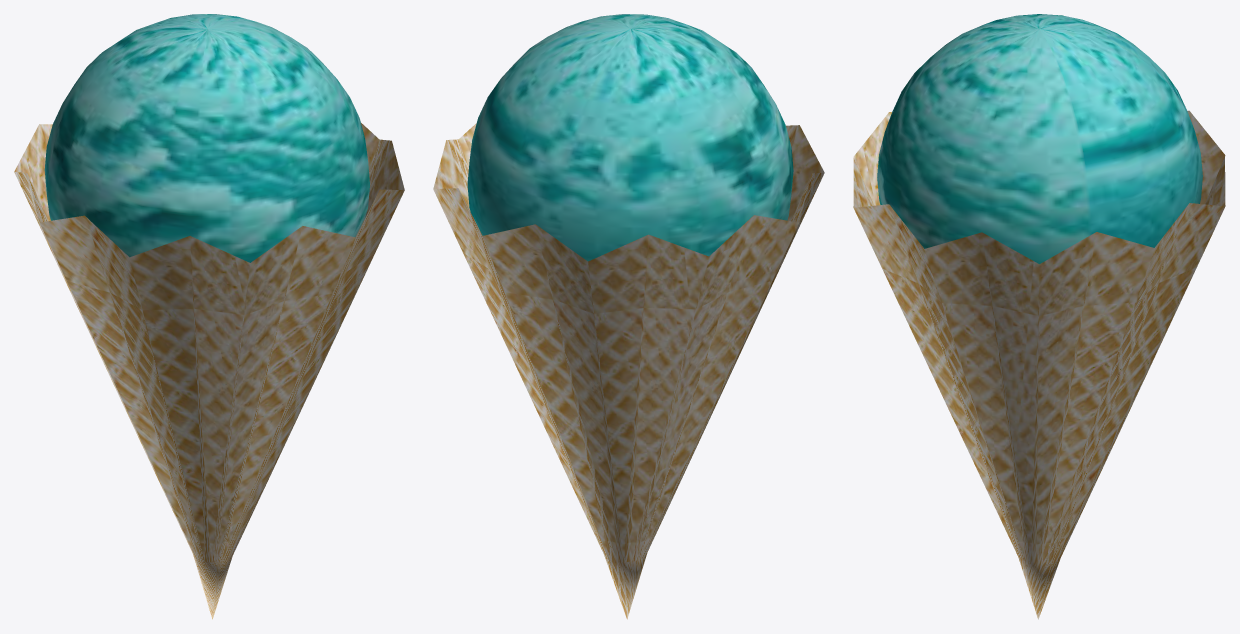
The model's file is ice cream.fbx.
3 views of the same model, side by side, from view 1: azimuth 30°, elevation 25°; view 2: azimuth 150°, elevation 25°; view 3: azimuth 270°, elevation 25° (orthographic).
Visible parts, largest first — view 1: pCone2; view 2: pCone2; view 3: pCone2.
Boxes of the visible parts, box(x1,y1,x2,y2) form: pCone2: box(14, 14, 404, 619); pCone2: box(433, 14, 824, 619); pCone2: box(853, 14, 1225, 619).
Bounding box in the file's own units: 2.81 × 4.67 × 2.67.
Materials: 2 (2 with a texture image).
